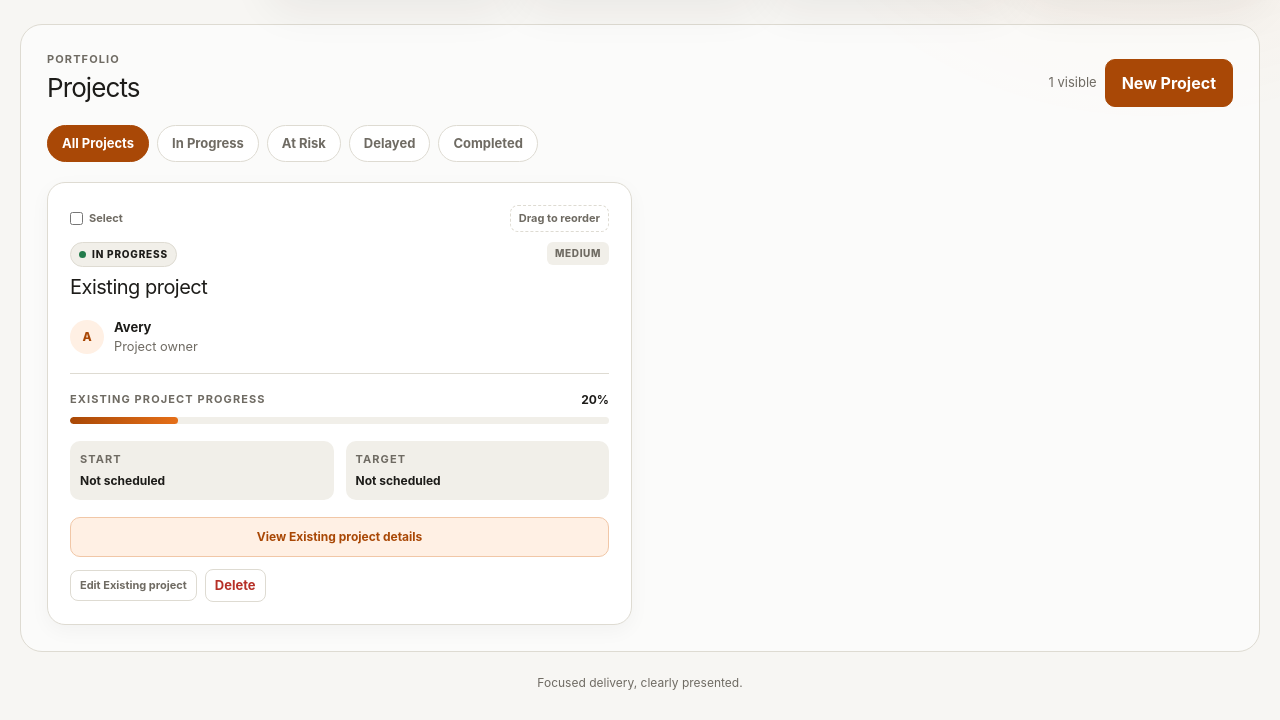
Test: admin dashboard controls › refreshes a stale project delete without replaying it
(page scrolled)
Click the button with aria-label "Delete Existing project": (235, 586) [205,569,266,602]
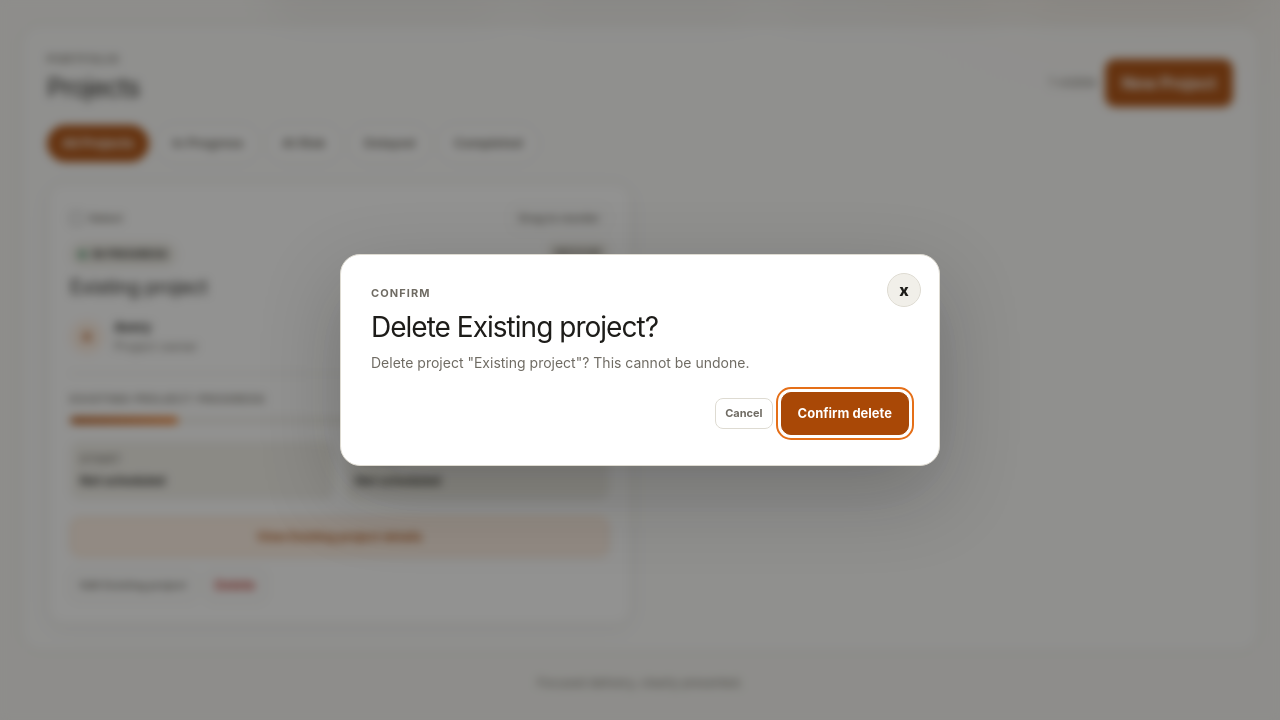
Click the button "Confirm delete": (845, 413) [781,392,909,435]
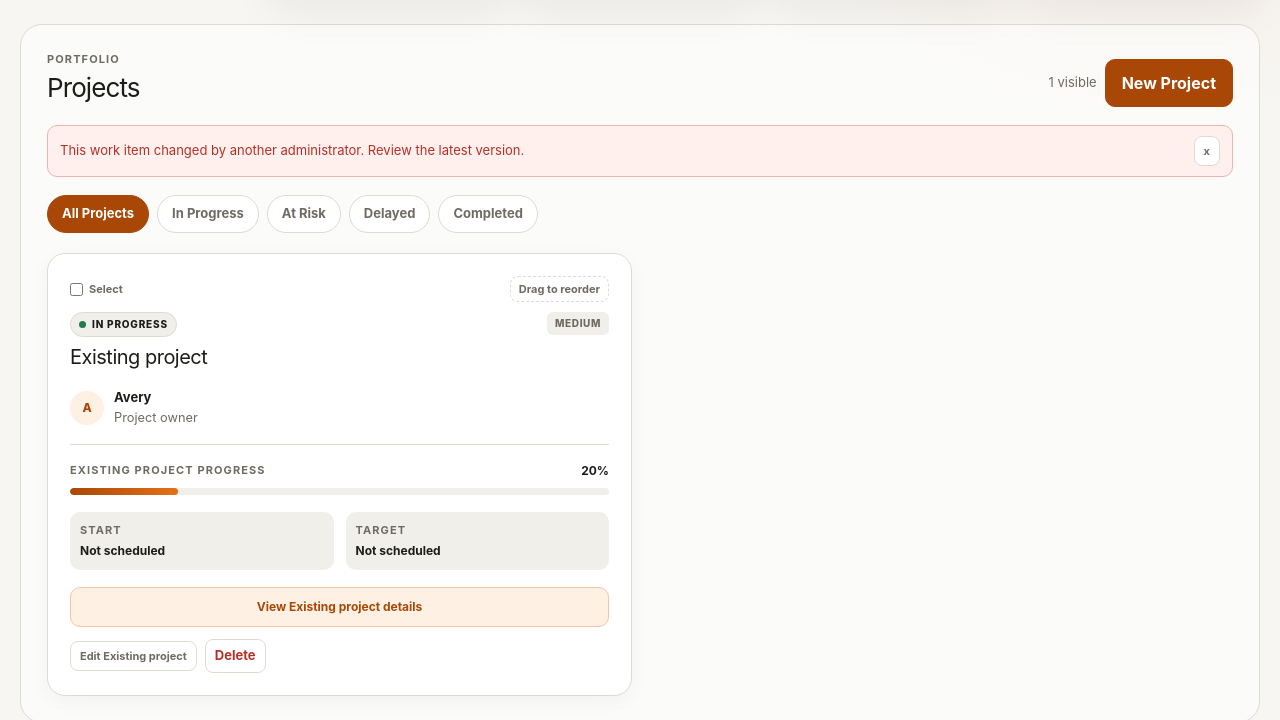
Expected: the text "changed by another administrator" is shown, [60,142,524,158]
